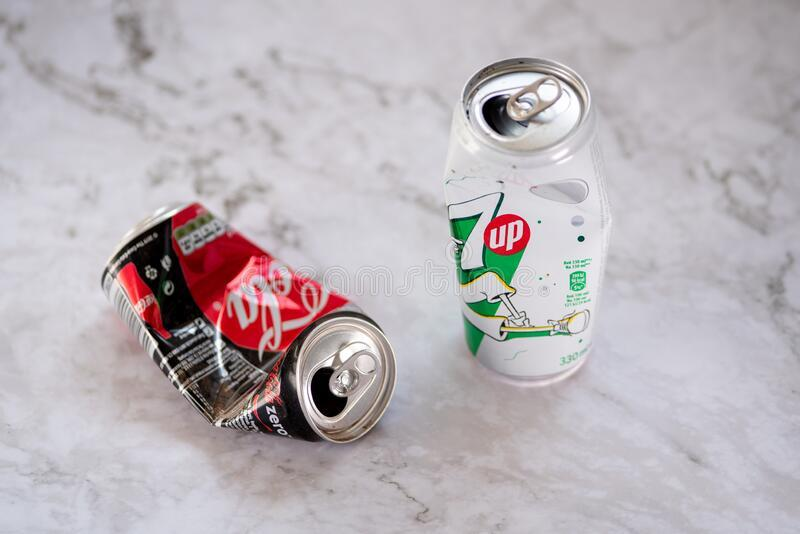metal: (97, 194, 402, 447), (431, 42, 624, 412)
